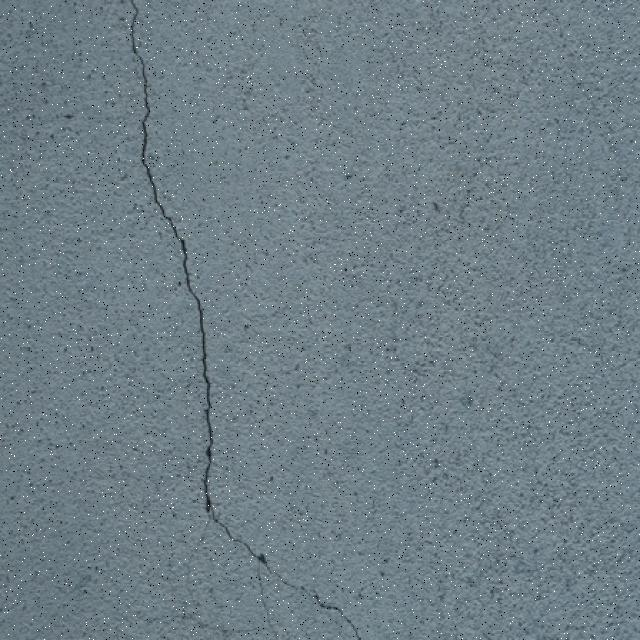minor crack: (482, 12, 637, 640), (3, 3, 140, 494)
moderate crack: (168, 216, 216, 520), (128, 1, 160, 204), (193, 622, 252, 634)
severe crack: (128, 3, 375, 630), (229, 524, 370, 636), (200, 432, 216, 508), (205, 505, 218, 525)
